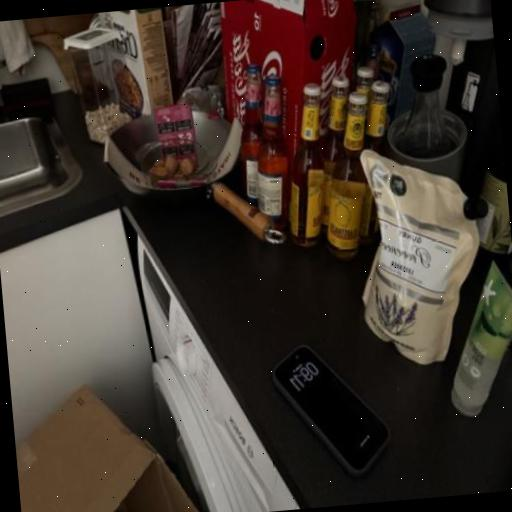phone: (240, 345, 389, 492)
